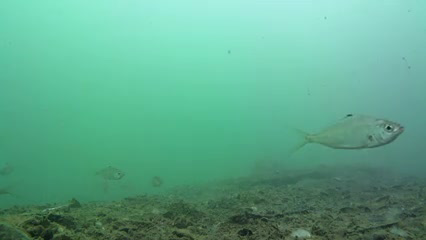smallfish: (308, 109, 409, 164), (93, 164, 128, 181)
